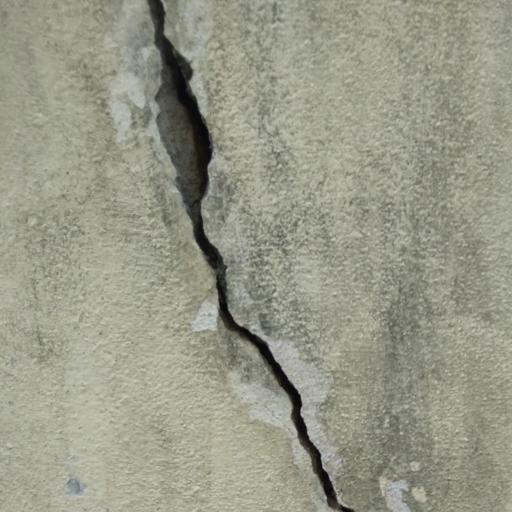major_crack: (134, 0, 365, 512)
